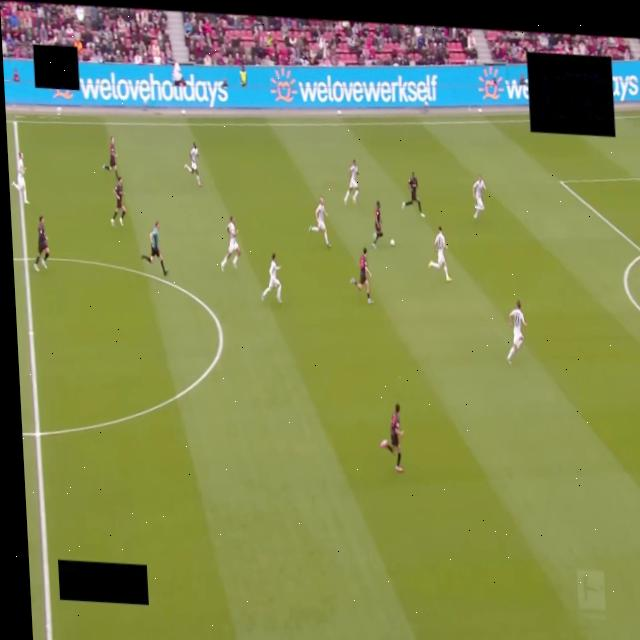ball: (390, 238, 395, 247)
player: (381, 404, 403, 471), (428, 226, 451, 281), (351, 248, 373, 303), (508, 301, 526, 363), (309, 198, 330, 248), (221, 216, 240, 271), (402, 172, 424, 217), (262, 253, 281, 303), (12, 153, 29, 204), (35, 217, 49, 271), (185, 142, 202, 186), (111, 178, 126, 226), (103, 136, 118, 179), (344, 160, 358, 203), (473, 176, 485, 219), (373, 201, 383, 248)
referee: (142, 222, 168, 276)
